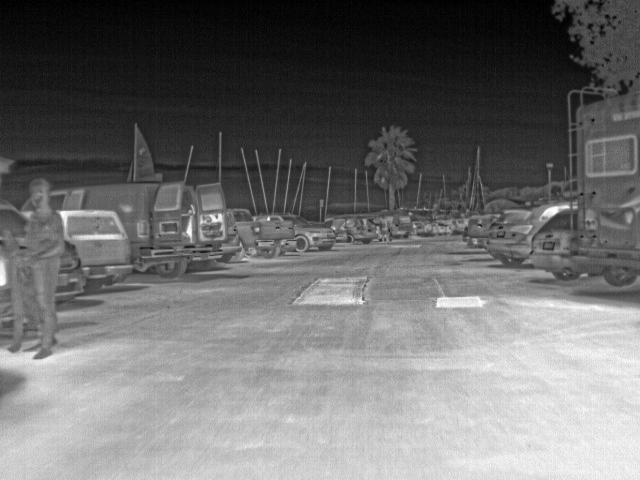car: (50, 180, 234, 278), (62, 207, 132, 292), (490, 204, 574, 264), (533, 207, 586, 278), (236, 207, 295, 260), (253, 214, 336, 251), (324, 213, 379, 246), (64, 242, 86, 306), (463, 214, 503, 248), (223, 207, 238, 263), (394, 209, 414, 240), (431, 218, 450, 234), (414, 220, 431, 236), (450, 216, 467, 232)
person: (24, 177, 64, 361), (378, 214, 392, 240)
